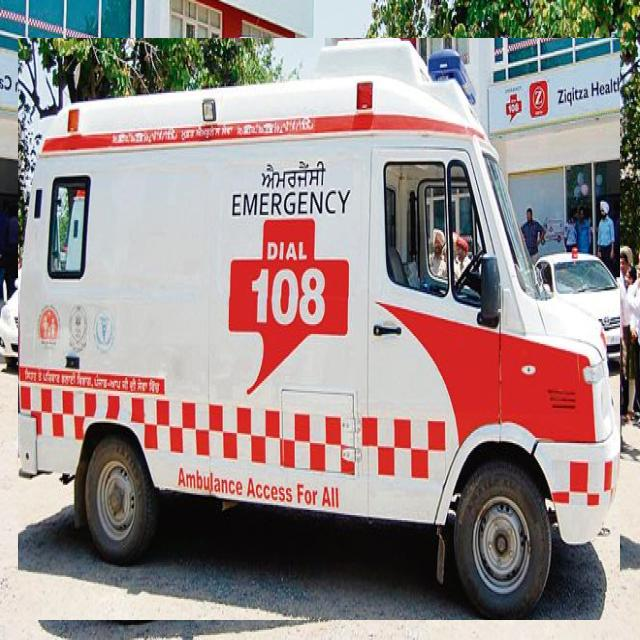car: (0, 255, 101, 364)
emergency: (18, 39, 620, 620)
